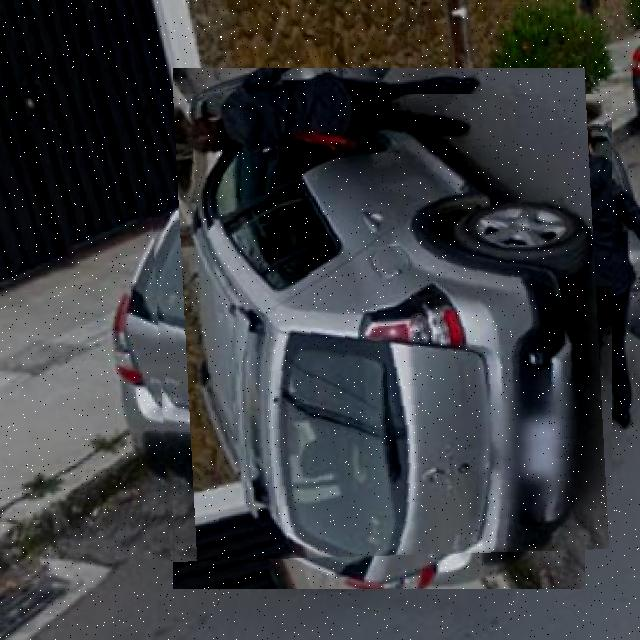car: (147, 95, 613, 563)
